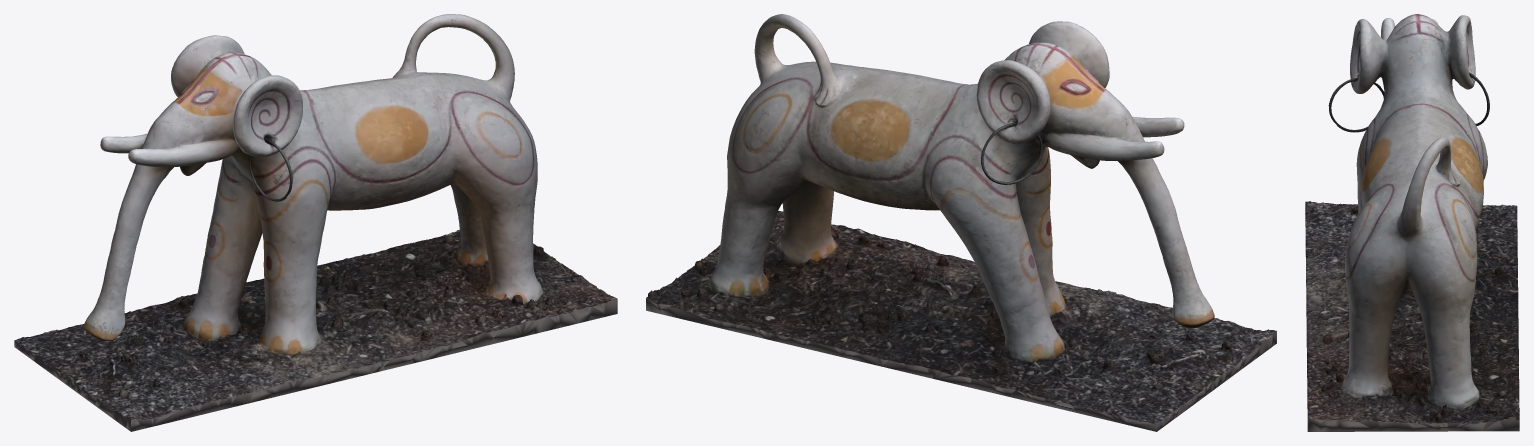
Rendered from preview.glb.
3 renders of one model, left to right at view 1: azimuth 30°, elevation 25°; view 2: azimuth 150°, elevation 25°; view 3: azimuth 270°, elevation 25°, orthographic. The views are drawn at different scales.
Visible parts, largest first — view 1: Object_2; view 2: Object_2; view 3: Object_2.
Boxes of the visible parts, box(x1,y1,x2,y2) form: Object_2: box(14, 14, 617, 431); Object_2: box(646, 14, 1276, 431); Object_2: box(1305, 14, 1519, 431).
Size of the model in its own units: 2.79 by 1.61 by 1.16.
Materials: 1 (1 with a texture image).
